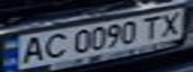0: (69, 27, 93, 54), (118, 18, 142, 45), (90, 25, 109, 52)
9: (103, 21, 127, 48)
A: (15, 34, 51, 65)
C: (39, 30, 72, 61)
T: (136, 14, 166, 40)
X: (154, 10, 190, 37)
